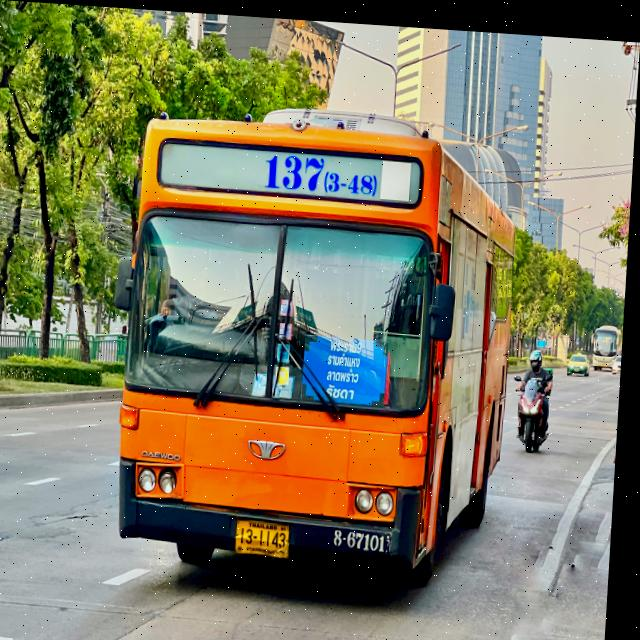BMTA-bus: (123, 108, 517, 578)
Bus Line Number: (260, 144, 385, 198)
Bus Side Number: (335, 520, 397, 552)
Destination Sign: (299, 332, 394, 405)
